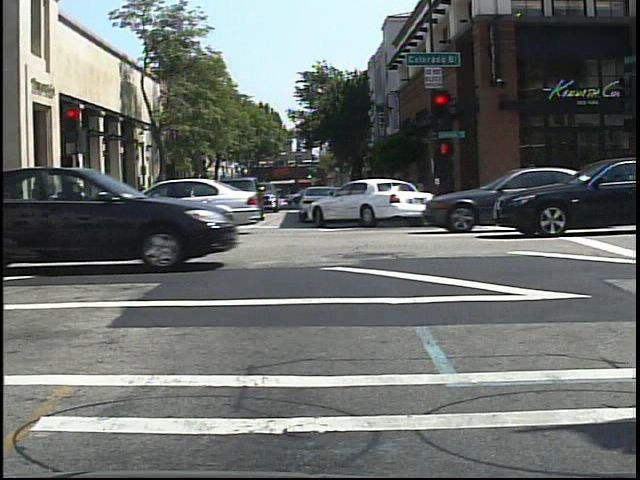person: (135, 181, 154, 220), (132, 181, 147, 215)
